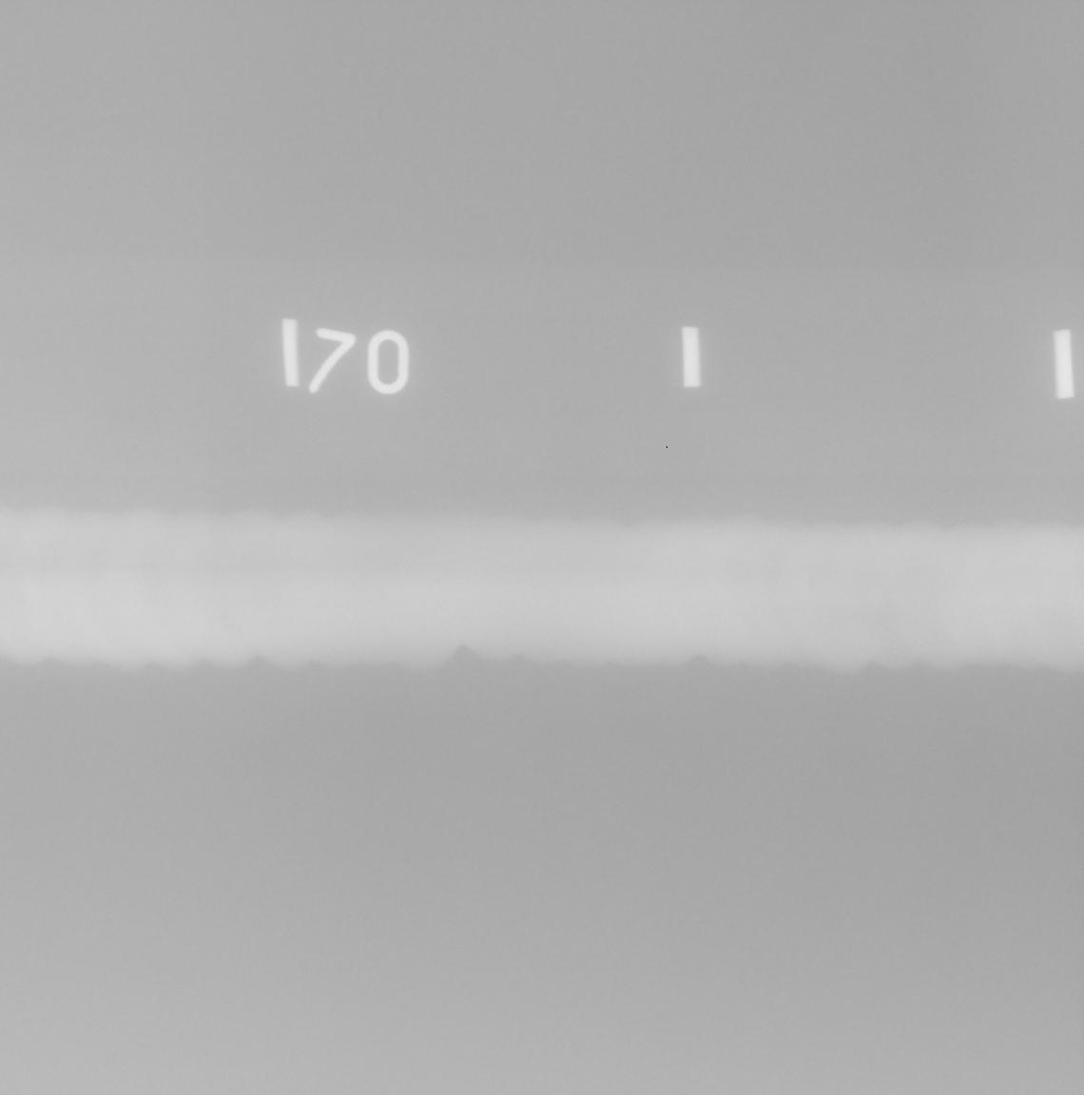Inclusion: (434, 578, 443, 586), (463, 617, 467, 620)
